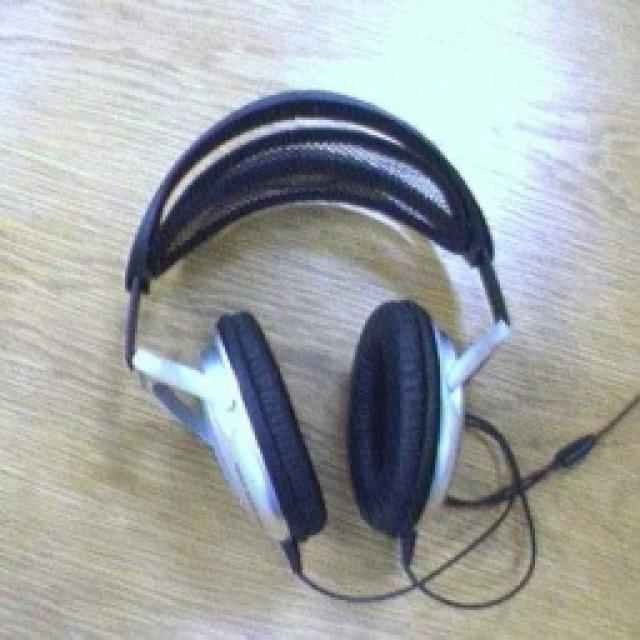headphones: (120, 85, 510, 585)
